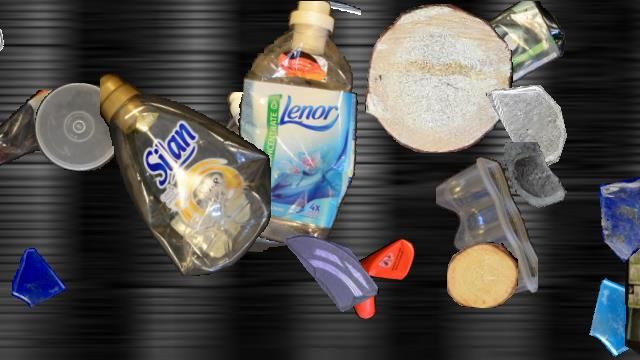glass: (284, 226, 378, 320), (486, 85, 570, 169), (499, 142, 577, 220), (585, 269, 640, 359), (593, 172, 640, 266), (6, 245, 68, 307)
metal: (298, 1, 360, 63), (0, 2, 7, 58)
plastic: (100, 66, 270, 276), (220, 1, 360, 251), (213, 92, 347, 252), (411, 1, 567, 103), (436, 157, 538, 299), (0, 90, 112, 166), (35, 83, 123, 171), (341, 239, 415, 319), (624, 127, 640, 359)
wood: (364, 4, 512, 152), (447, 242, 517, 308)
